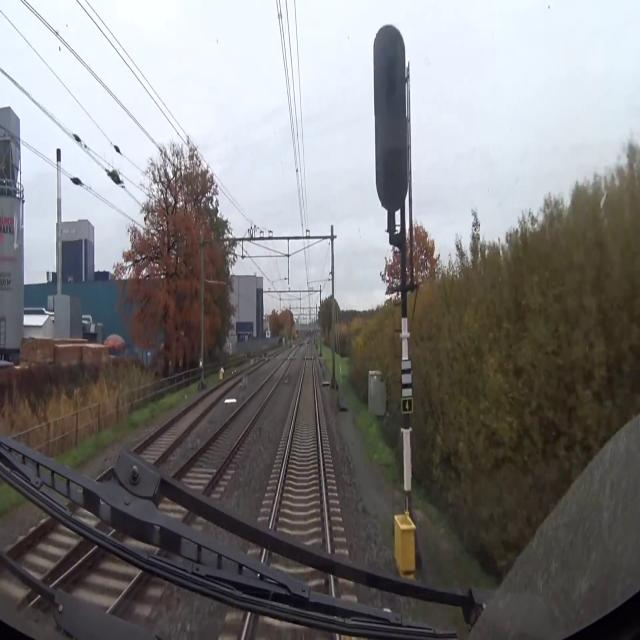rail-track: (177, 356, 291, 488), (272, 347, 327, 550), (137, 378, 235, 460), (102, 471, 112, 479)
